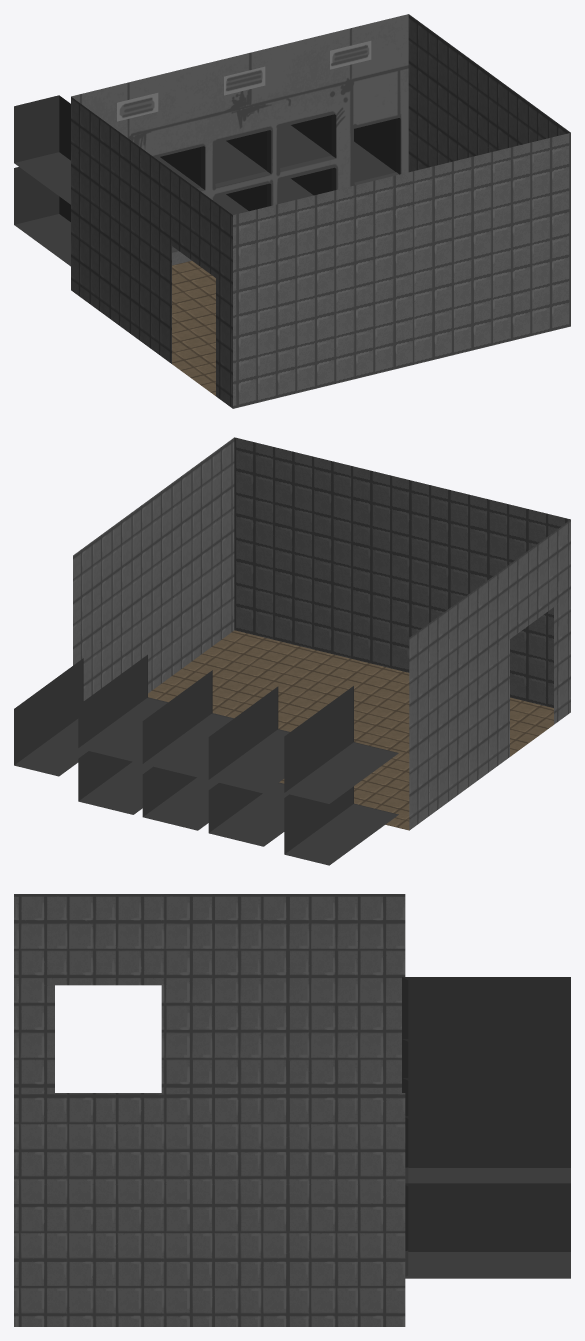
The model's file is soba.glb.
3 views of the same model, one above another, from view 1: azimuth 30°, elevation 25°; view 2: azimuth 150°, elevation 25°; view 3: azimuth 270°, elevation 25° (orthographic). The views are drawn at different scales.
Visible parts, largest first — view 1: zid, fiokaUZidu; view 2: zid, fiokaUZidu; view 3: zid, fiokaUZidu.
Part boxes in pixels (box(x1,y1,x2,y2)): zid: box(71, 14, 570, 408); fiokaUZidu: box(14, 95, 400, 266); zid: box(73, 437, 570, 830); fiokaUZidu: box(14, 654, 398, 865); zid: box(14, 894, 405, 1326); fiokaUZidu: box(402, 977, 570, 1278).
Bounding box in the file's own units: 16.38 × 8.97 × 19.38.
Materials: 4 (3 with a texture image).
